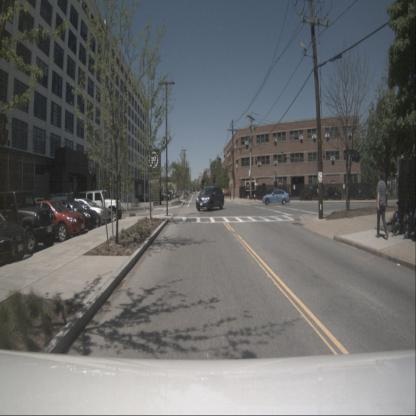human-pedestrian-adult: (376, 171, 390, 240)
vehicle-car: (0, 191, 58, 255), (25, 200, 85, 242), (48, 200, 100, 235), (58, 198, 112, 229), (0, 212, 28, 263), (78, 190, 124, 220), (196, 186, 224, 211), (46, 195, 73, 215), (262, 189, 290, 205), (347, 183, 366, 200), (310, 184, 328, 200), (324, 186, 342, 200), (299, 187, 313, 201), (140, 193, 150, 205)
